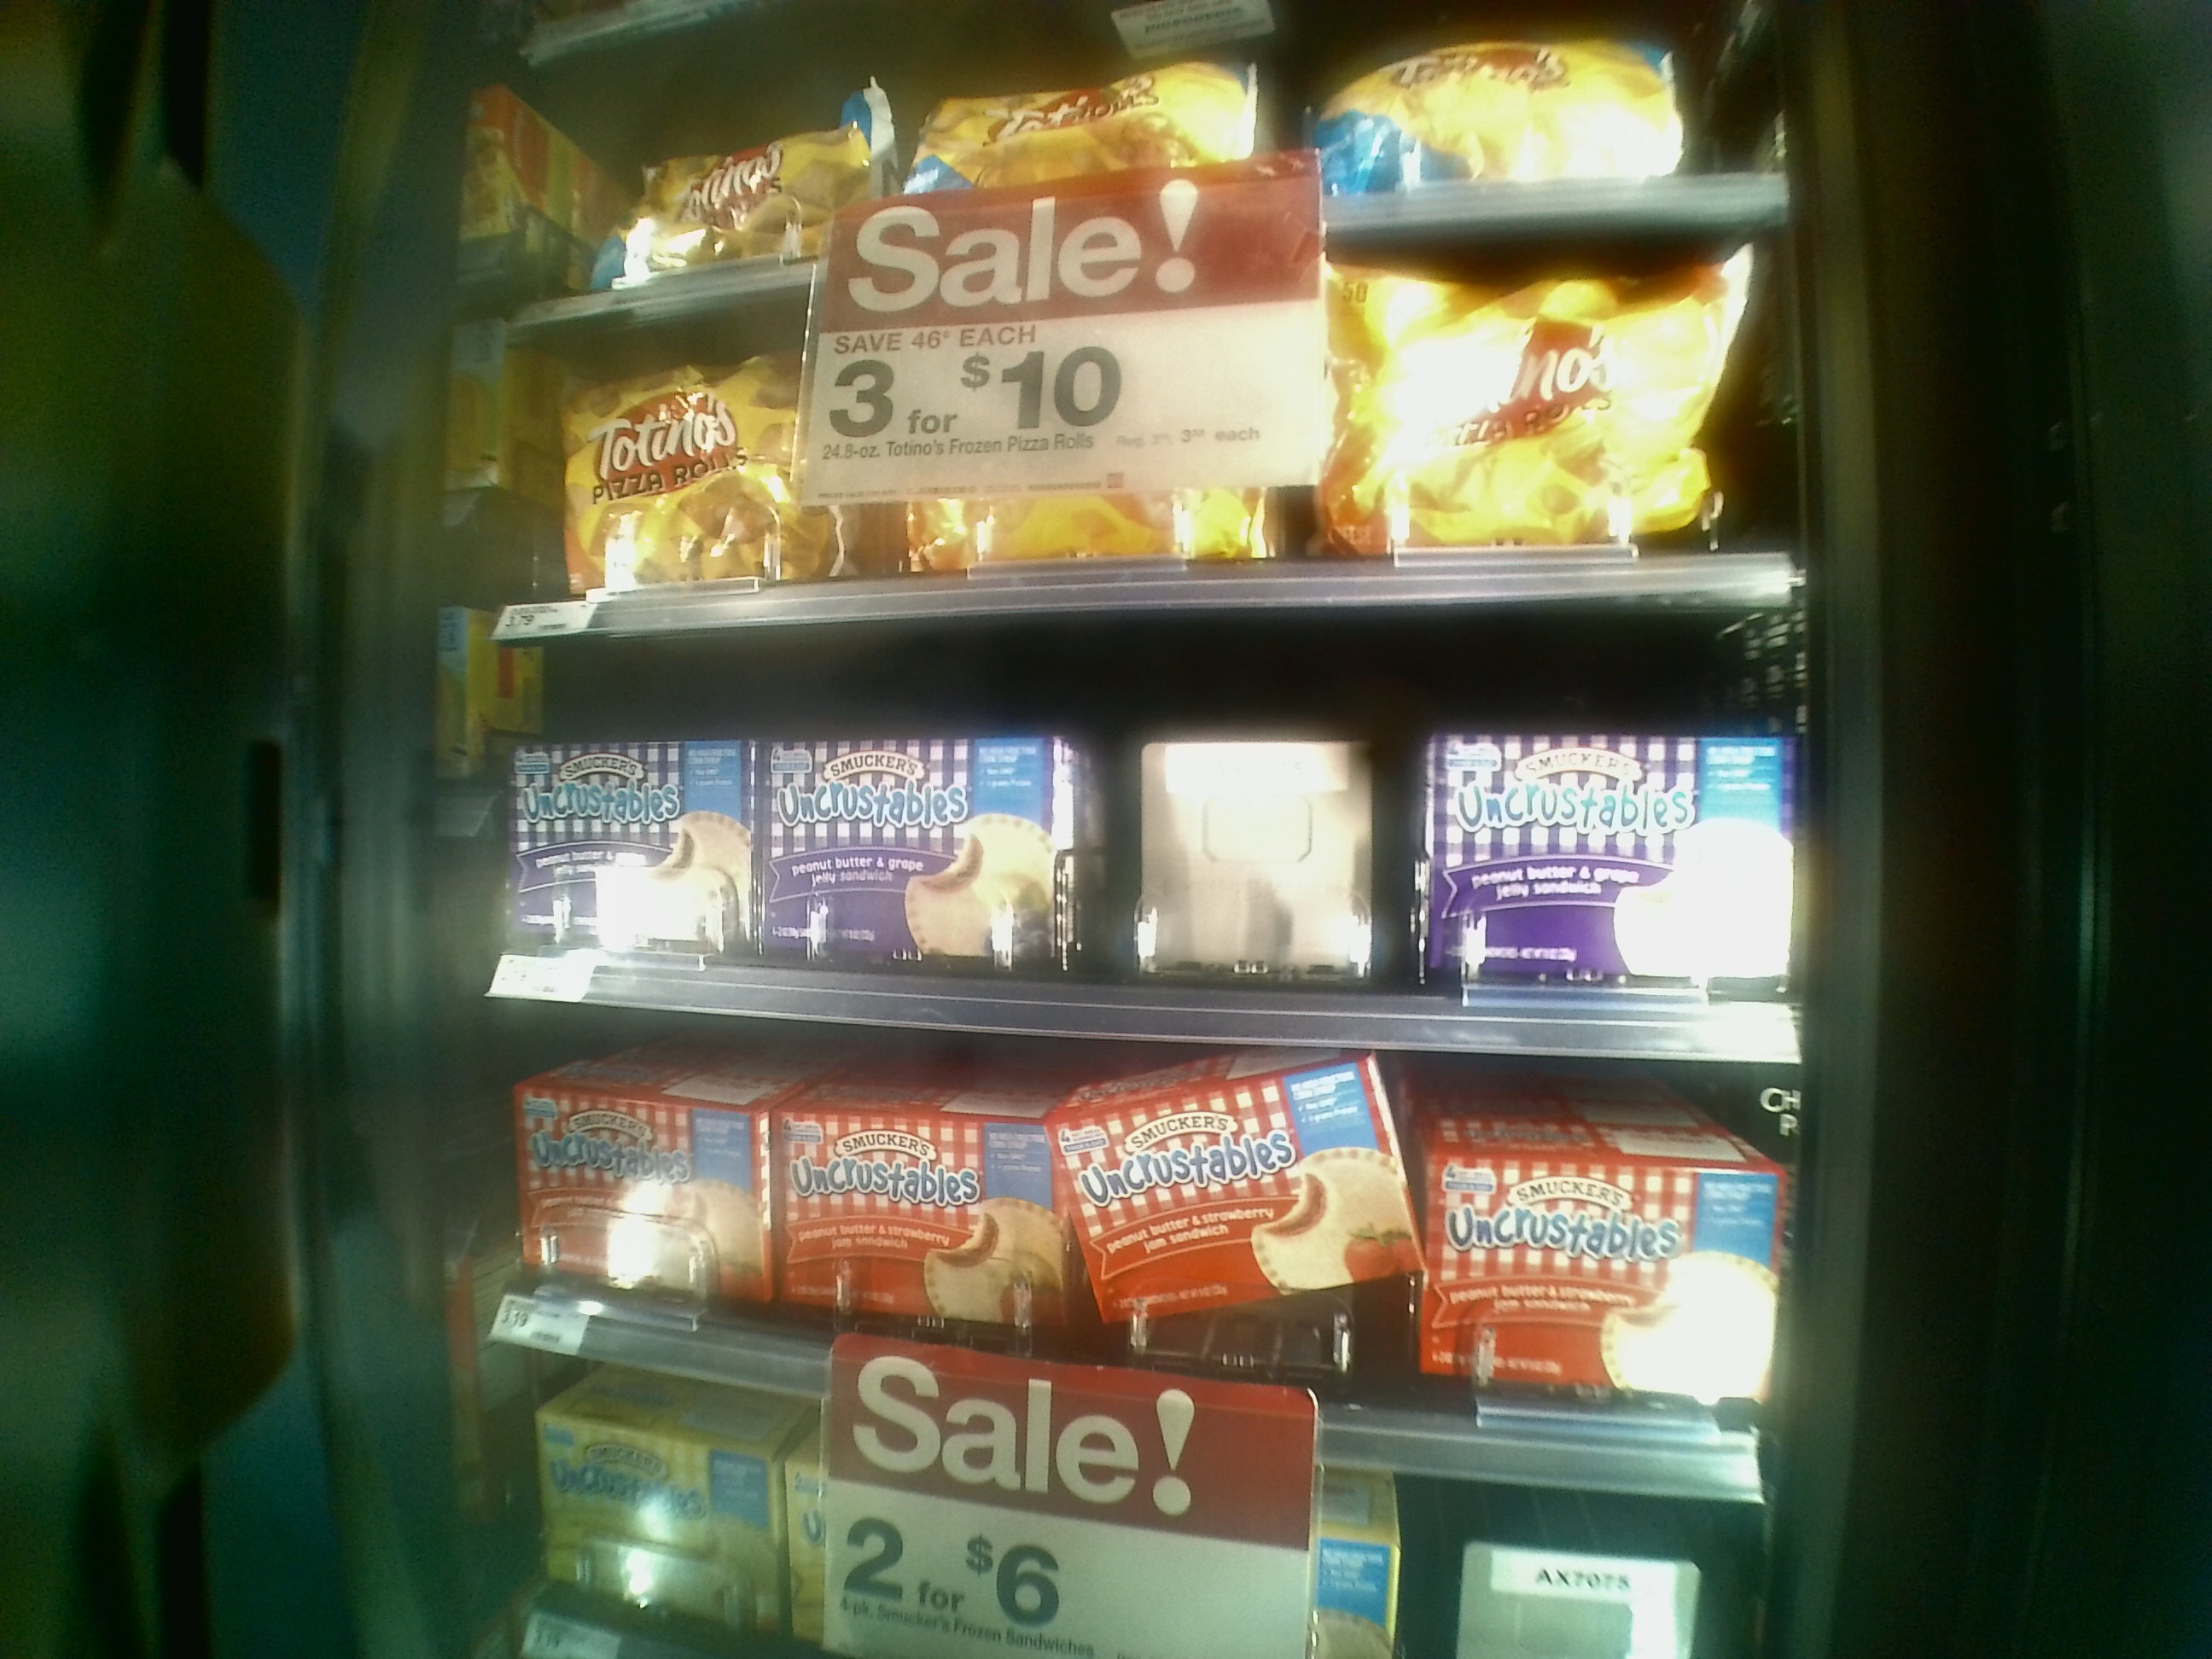shelf: (467, 1019, 1784, 1500), (484, 636, 1806, 1077), (517, 324, 1792, 610)
